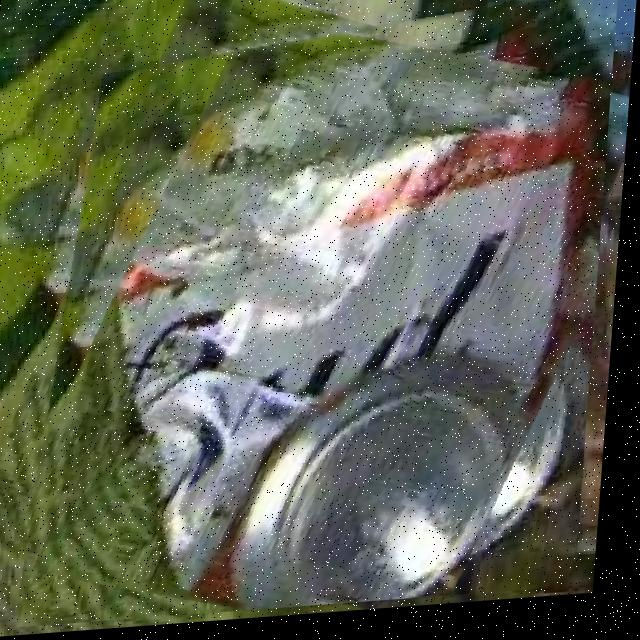can: (17, 0, 619, 628)
